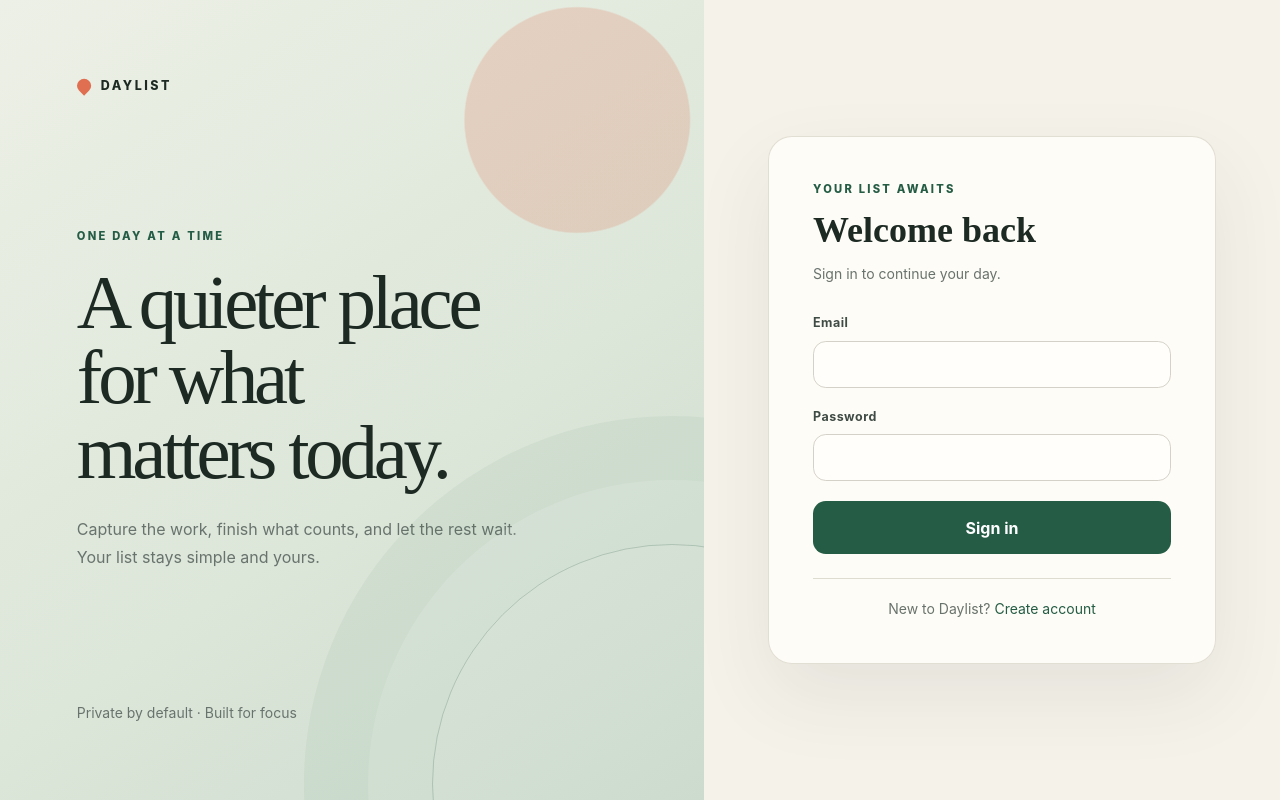
App › shows login and registration choices to an anonymous visitor
Expected: the heading "Welcome back" is shown, top-left (813, 210), bottom-right (1036, 250)
Click the button "Create account" at (1045, 609), box top-left (994, 599), bottom-right (1096, 619)
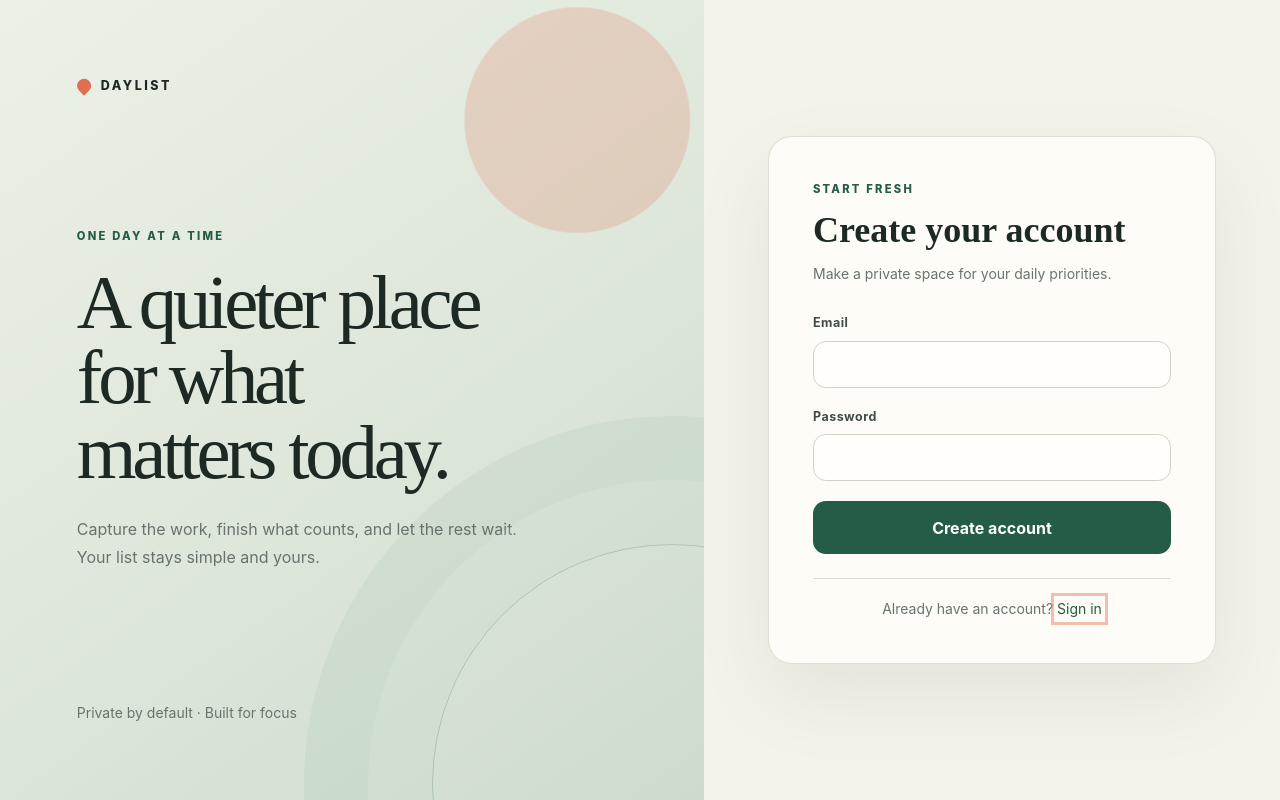
Expected: the heading "Create your account" is shown, top-left (813, 210), bottom-right (1171, 250)
